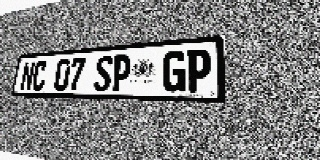0: (53, 59, 71, 91)
7: (67, 57, 86, 91)
C: (31, 60, 48, 91)
G: (162, 50, 186, 92)
N: (19, 61, 35, 91)
P: (186, 48, 211, 92), (110, 54, 132, 92)
S: (93, 55, 113, 91)
